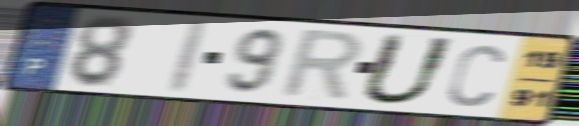8: (66, 12, 137, 90)
9: (223, 26, 289, 97)
C: (444, 41, 508, 109)
I: (161, 18, 214, 95)
R: (276, 27, 367, 105)
U: (355, 31, 460, 108)
